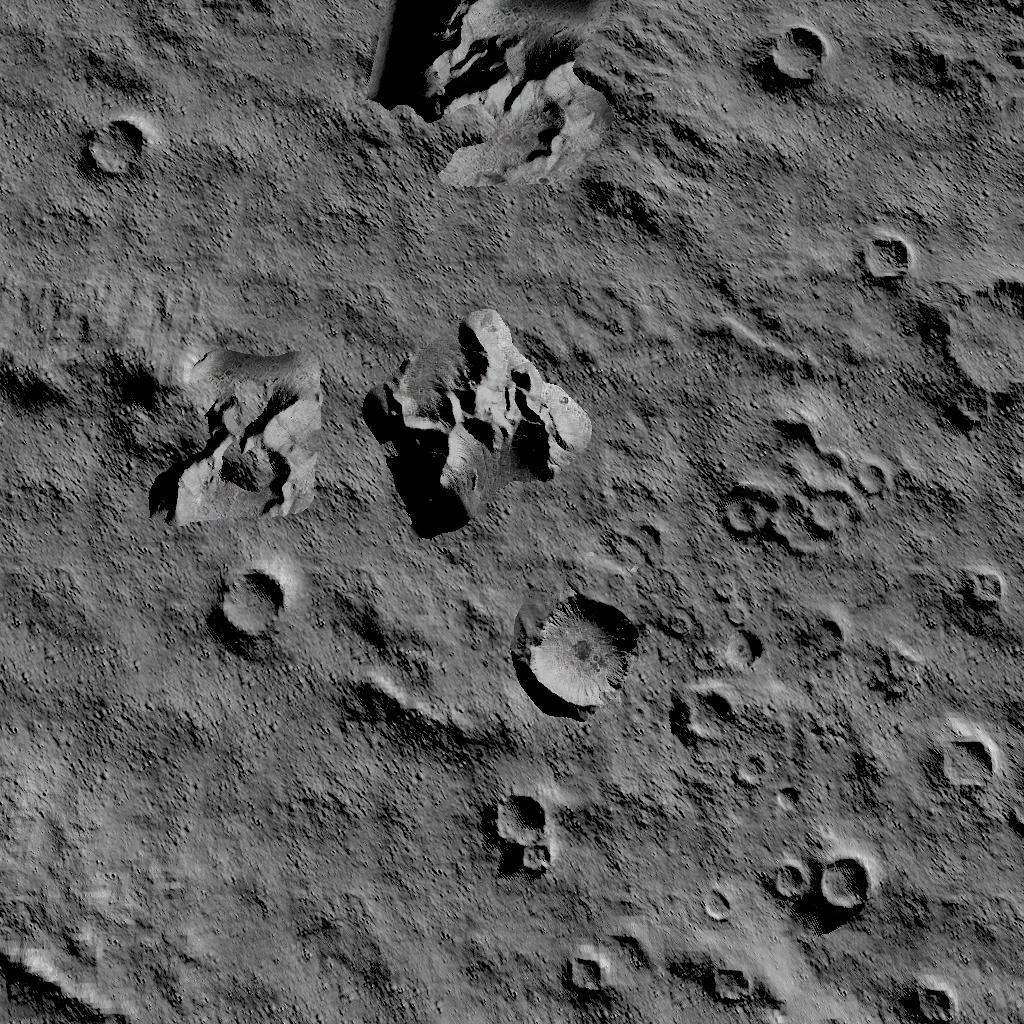Boulders: (371, 0, 713, 230), (0, 280, 326, 518), (368, 308, 590, 542), (338, 565, 513, 775), (891, 0, 1024, 110), (0, 945, 128, 1024)
Crater: (721, 418, 890, 558), (943, 270, 1024, 440), (524, 595, 640, 713), (486, 790, 558, 880), (214, 560, 290, 645), (771, 855, 873, 918), (758, 22, 830, 88), (671, 685, 738, 750), (84, 112, 146, 182), (941, 732, 1000, 790), (858, 228, 912, 288), (563, 945, 608, 1005), (908, 975, 960, 1024), (704, 955, 752, 1008), (964, 565, 1008, 610)
Plan surface: (0, 532, 203, 930), (218, 790, 476, 1024), (161, 0, 358, 268), (731, 122, 1024, 216)
